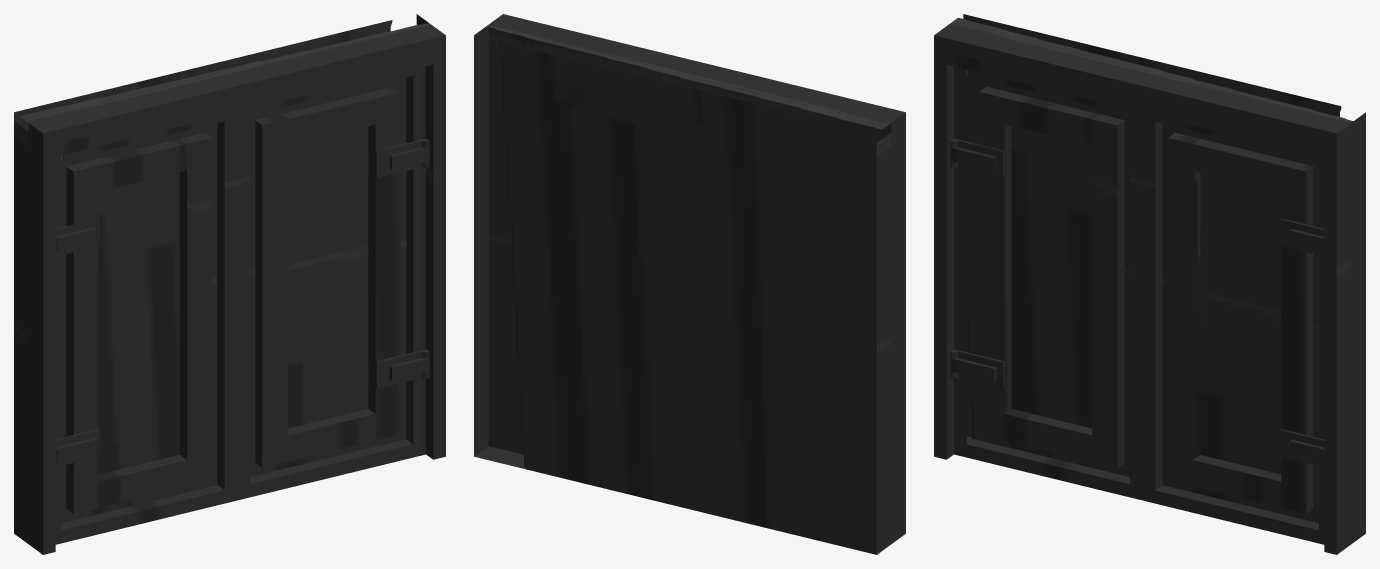
Rendered from c70_door.obj.
The picture shows the model from 3 angles, left to right: view 1: azimuth 30°, elevation 25°; view 2: azimuth 150°, elevation 25°; view 3: azimuth 330°, elevation 25°; orthographic projection.
Visible parts, largest first — view 1: cylinder; view 2: cylinder; view 3: cylinder.
Boxes of the visible parts, bbox=[...] form: cylinder: bbox=[14, 14, 445, 554]; cylinder: bbox=[474, 14, 905, 554]; cylinder: bbox=[934, 14, 1365, 554].
Size of the model in its own units: 2 by 2 by 0.25.
